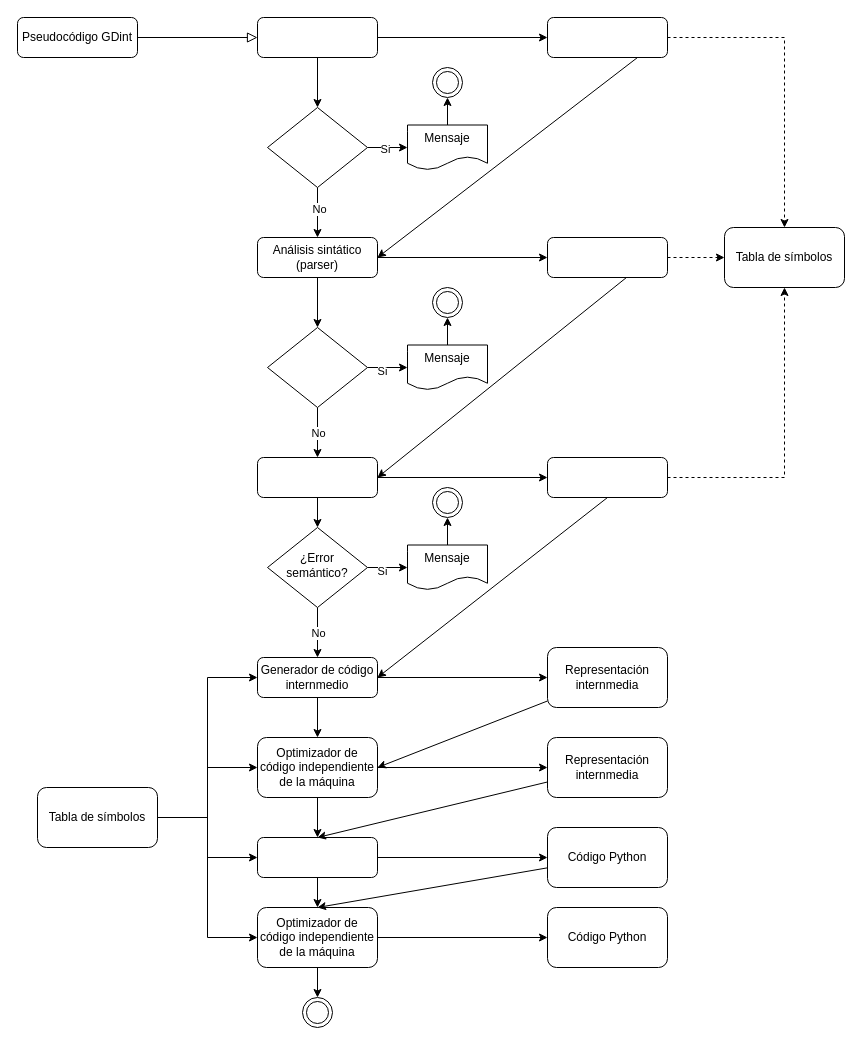
This 862x1045 diagram has some shape labels left out. The box of each missing label's shape, as (x1, y1, x2, y2) in pixels:
Análisis léxico: (256, 16, 378, 58)
Análisis semántico: (256, 456, 378, 498)
Flujo de Tokens: (546, 16, 668, 58)
Generador de código: (256, 836, 378, 878)
¿Error léxico?: (266, 106, 368, 188)
¿Error sintáctico?: (266, 326, 368, 408)
Árbol Parse: (546, 236, 668, 278)
Árbol sintáctico abstracto decorado: (546, 456, 668, 498)
